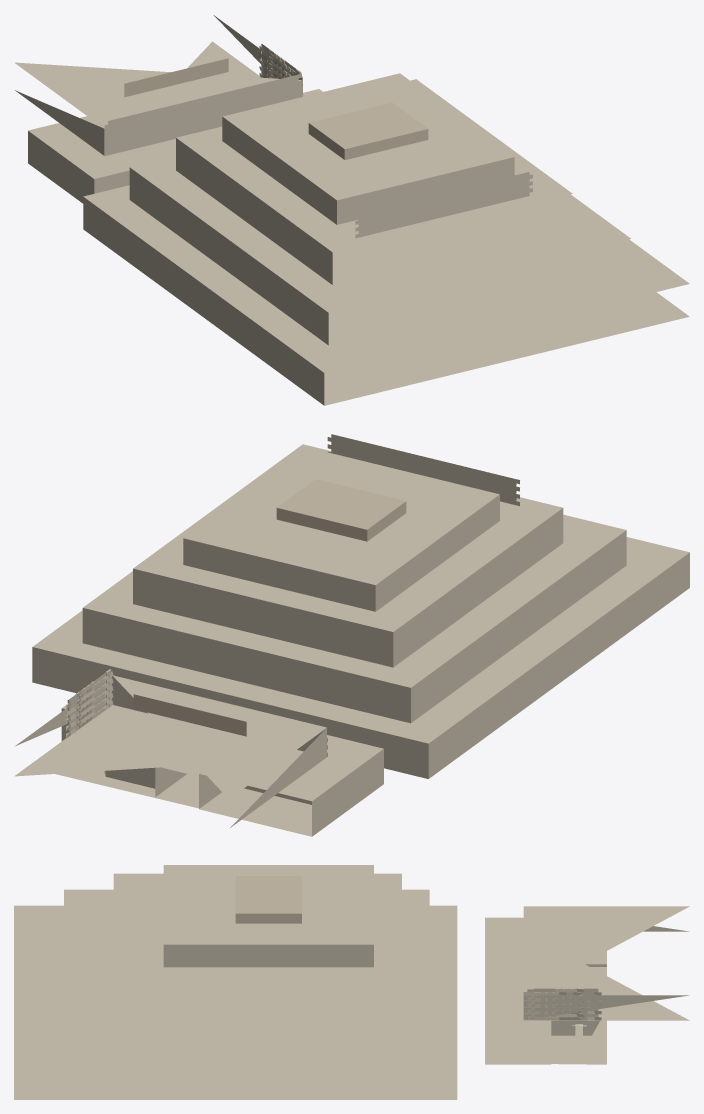
File: chavin_edificio_b_lod0.glb
3 views of the same model, one above another, from view 1: azimuth 30°, elevation 25°; view 2: azimuth 150°, elevation 25°; view 3: azimuth 270°, elevation 25° (orthographic). The views are drawn at different scales.
Visible parts, largest first — view 1: chavin_edificio_b; view 2: chavin_edificio_b; view 3: chavin_edificio_b.
Part boxes in pixels (box(x1,y1,x2,y2)): chavin_edificio_b: box(14, 15, 689, 405); chavin_edificio_b: box(14, 434, 689, 836); chavin_edificio_b: box(14, 865, 689, 1099).
Bounding box in the file's own units: 70 × 24.5 × 122.
